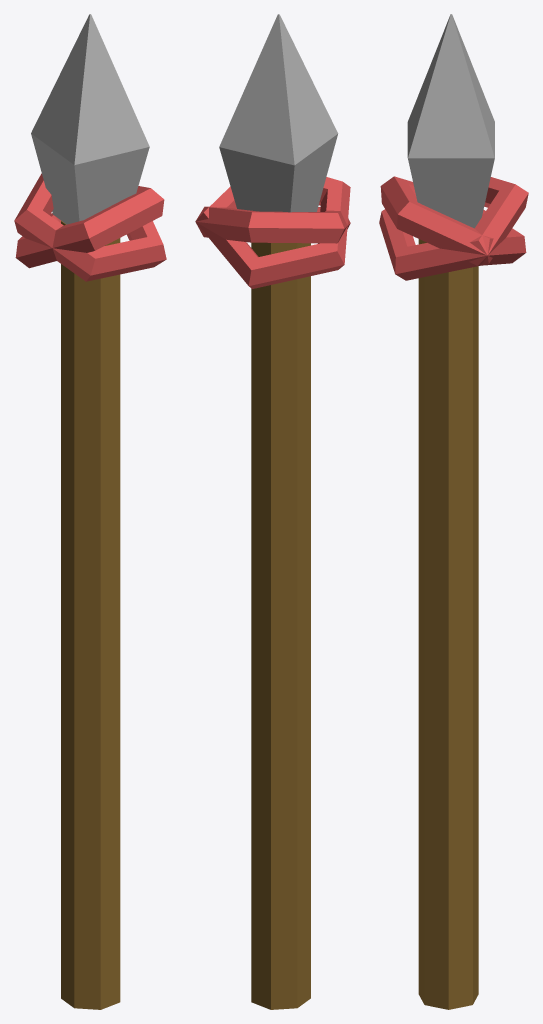
The model's file is spear.fbx.
The picture shows the model from 3 angles, left to right: view 1: azimuth 30°, elevation 25°; view 2: azimuth 150°, elevation 25°; view 3: azimuth 270°, elevation 25°; orthographic projection.
Visible parts, largest first — view 1: Cylinder, Cube, Torus, Torus_1; view 2: Cylinder, Cube, Torus_1, Torus; view 3: Cylinder, Cube, Torus, Torus_1.
Boxes of the visible parts, left/top/right/bottom form: Cylinder: left=61, top=220, right=120, bottom=1009; Cube: left=31, top=14, right=149, bottom=224; Torus: left=14, top=173, right=166, bottom=281; Torus_1: left=15, top=186, right=164, bottom=268; Cylinder: left=251, top=242, right=310, bottom=1009; Cube: left=219, top=14, right=338, bottom=212; Torus_1: left=195, top=177, right=350, bottom=288; Torus: left=196, top=206, right=350, bottom=243; Cylinder: left=418, top=239, right=478, bottom=1009; Cube: left=407, top=14, right=494, bottom=228; Torus: left=379, top=177, right=528, bottom=280; Torus_1: left=380, top=176, right=526, bottom=265.
Bounding box in the file's own units: 66.09 × 456 × 62.96.
